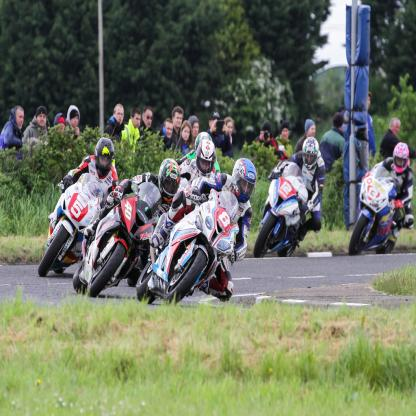Helmet: (90, 138, 115, 178), (235, 159, 258, 201), (160, 157, 182, 199), (195, 134, 214, 176), (391, 141, 412, 176), (302, 133, 319, 173), (194, 128, 210, 146)
